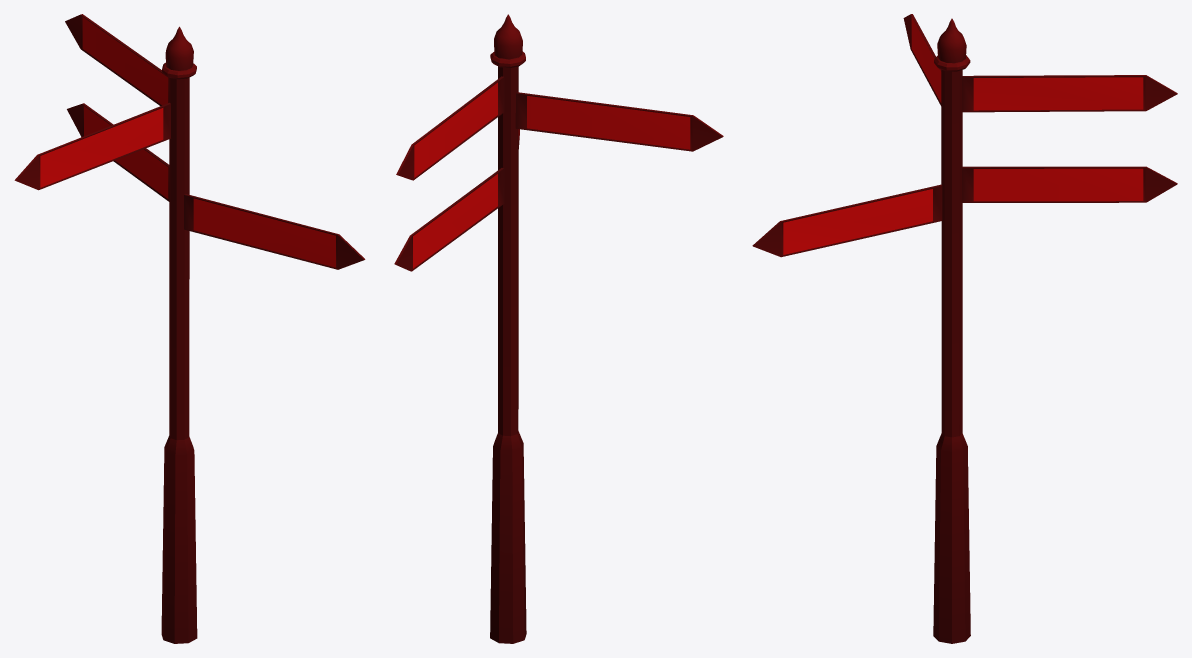
File: Signpost003.glb
3 renders of one model, left to right at view 1: azimuth 30°, elevation 25°; view 2: azimuth 150°, elevation 25°; view 3: azimuth 270°, elevation 25°, orthographic.
Parts seen in each view (by area): view 1: Signpost003; view 2: Signpost003; view 3: Signpost003.
Boxes of the visible parts, <box> form: Signpost003: <box>14,14,365,643</box>; Signpost003: <box>394,14,723,643</box>; Signpost003: <box>752,14,1177,643</box>.
Bounding box in the file's own units: 6.76 × 14.42 × 8.91.
